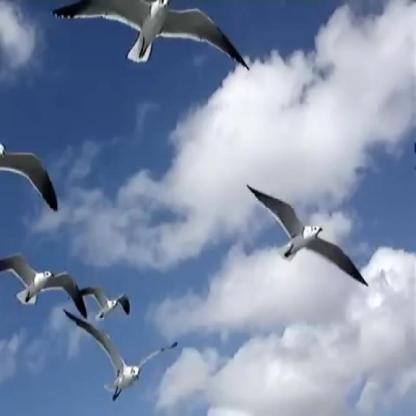bird: (53, 0, 250, 66), (248, 184, 368, 288), (61, 309, 176, 408), (0, 248, 86, 326), (0, 133, 70, 219), (80, 277, 140, 329)
